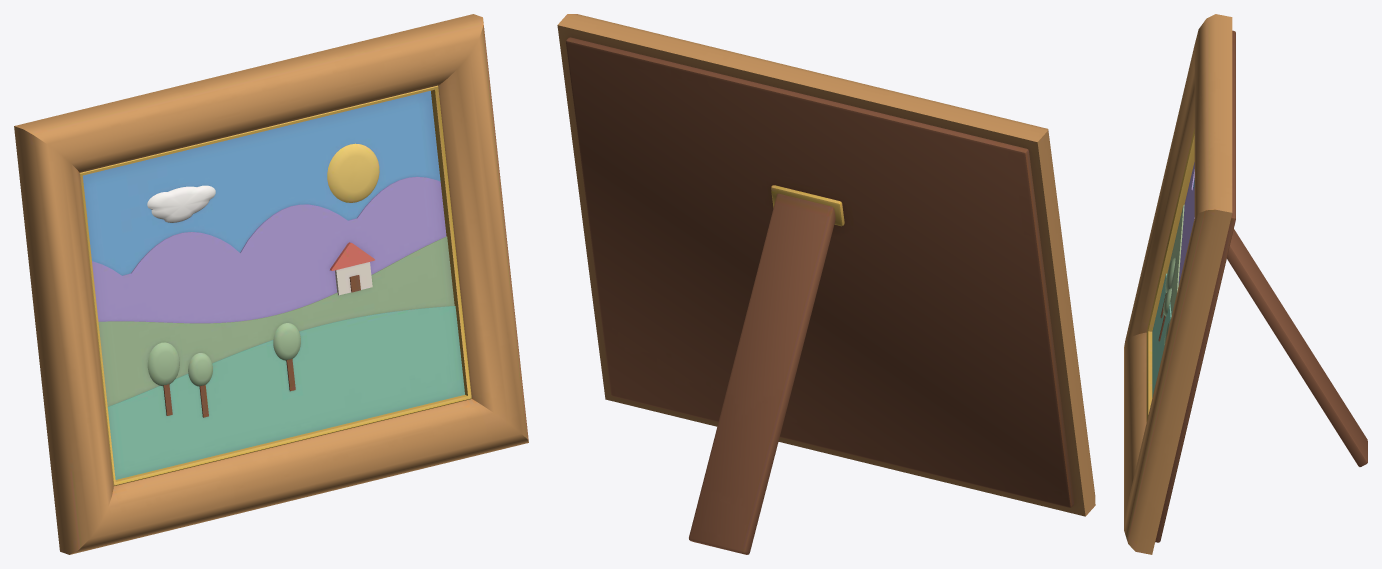
The model's file is picture-frame.glb.
The picture shows the model from 3 angles, left to right: view 1: azimuth 30°, elevation 25°; view 2: azimuth 150°, elevation 25°; view 3: azimuth 270°, elevation 25°; orthographic projection. The views are drawn at different scales.
Parts seen in each view (by area): view 1: picture-frame_body; view 2: picture-frame_body; view 3: picture-frame_body.
Part boxes in pixels (box(x1,y1,x2,y2)): picture-frame_body: box(14, 14, 528, 554); picture-frame_body: box(557, 14, 1095, 554); picture-frame_body: box(1124, 14, 1367, 554).
Bounding box in the file's own units: 0.3 × 0.2468 × 0.1579.
1 material, 1 textured.
